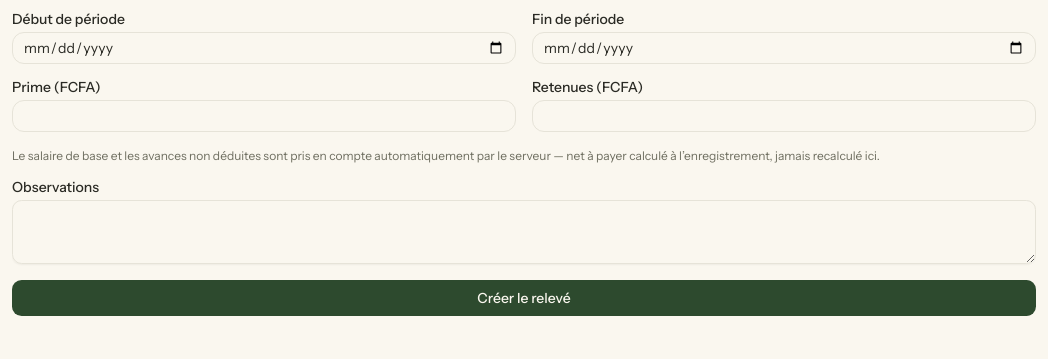
PayrollForm (création — pas de relevé fourni) › refuse une fin de période antérieure au début
Type "2026-08-31" into the date field labelled "Début de période" at (264, 48), box [12, 32, 516, 64]
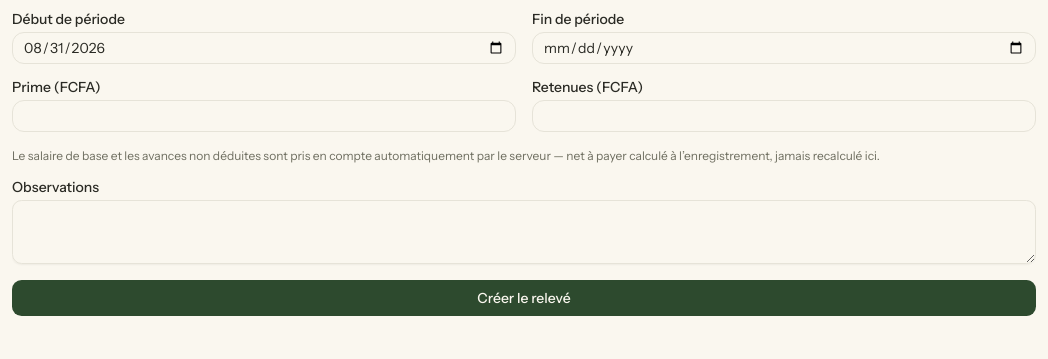
Type "2026-08-01" into the date field labelled "Fin de période" at (784, 48), box [532, 32, 1036, 64]
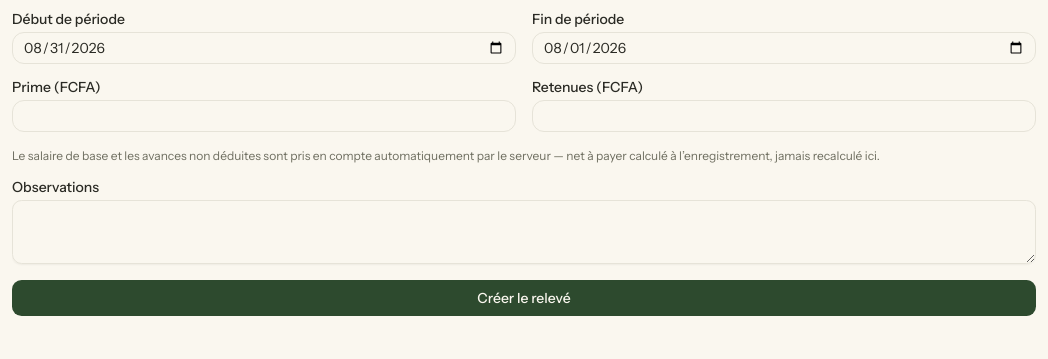
Click the button "Créer le relevé" at (524, 298), box [12, 280, 1036, 316]
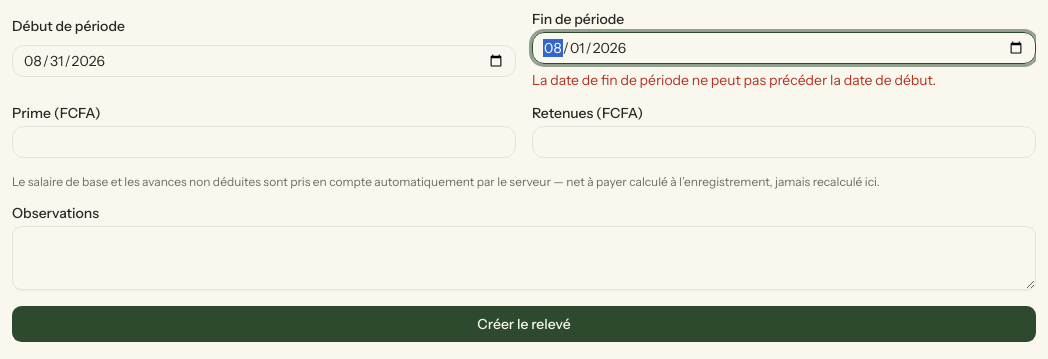
Now the text "La date de fin de période ne peut pas précéder la date de début." is shown, box [532, 71, 936, 89]
